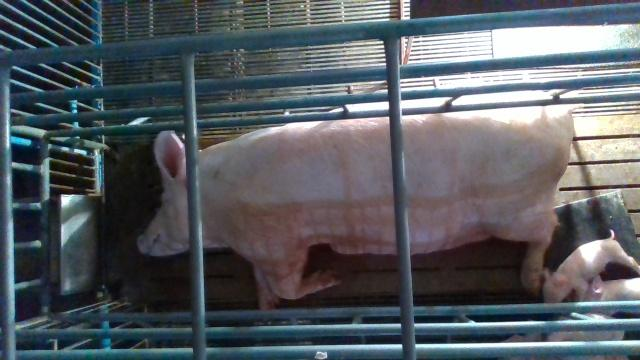piglet: (542, 229, 640, 303), (586, 278, 640, 315), (546, 316, 624, 341)
sow-sleep: (137, 93, 579, 309)
